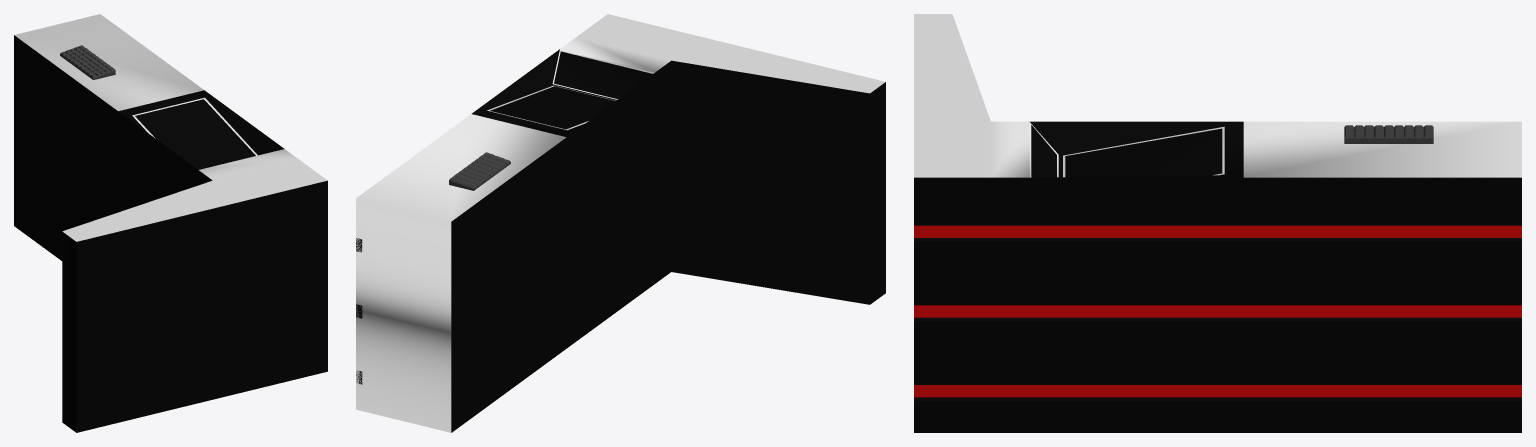
Rendered from Counter.fbx.
3 renders of one model, left to right at view 1: azimuth 30°, elevation 25°; view 2: azimuth 150°, elevation 25°; view 3: azimuth 270°, elevation 25°, orthographic. The views are drawn at different scales.
Parts seen in each view (by area): view 1: Cash desk, Cube; view 2: Cash desk, Cube; view 3: Cash desk, Cube.
Boxes of the visible parts, box(x1,y1,x2,y2) form: Cash desk: box(14, 14, 327, 432); Cube: box(60, 45, 115, 79); Cash desk: box(356, 14, 885, 432); Cube: box(449, 152, 510, 190); Cash desk: box(914, 14, 1521, 432); Cube: box(1344, 125, 1433, 143).
Size of the model in its own units: 496 by 372 by 778.
